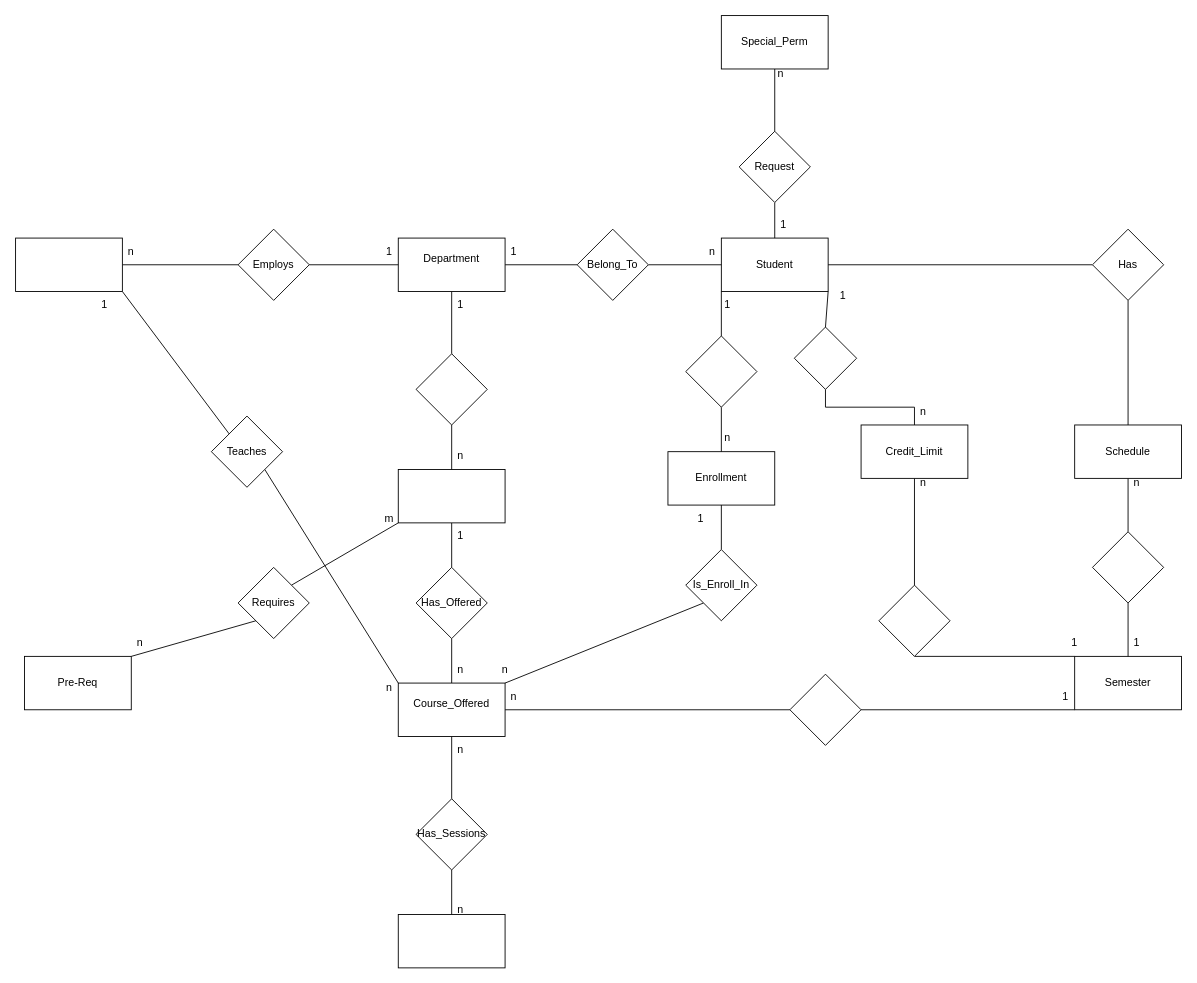
The diagram is 1197 pixels wide and 983 high, and some of its shapes have lost their labels. Each missing label, with the centre of its shape:
"Apply_To" belongs at (x=914, y=620).
"Assigned_ Limit" belongs at (x=825, y=357).
"Course" belongs at (x=451, y=496).
"Defines" belongs at (x=1128, y=567).
"Instructor" belongs at (x=68, y=264).
"Offered" belongs at (x=451, y=389).
"Register" belongs at (x=721, y=371).
"Scheduled_In" belongs at (x=825, y=709).
"Sessions" belongs at (x=451, y=941).
